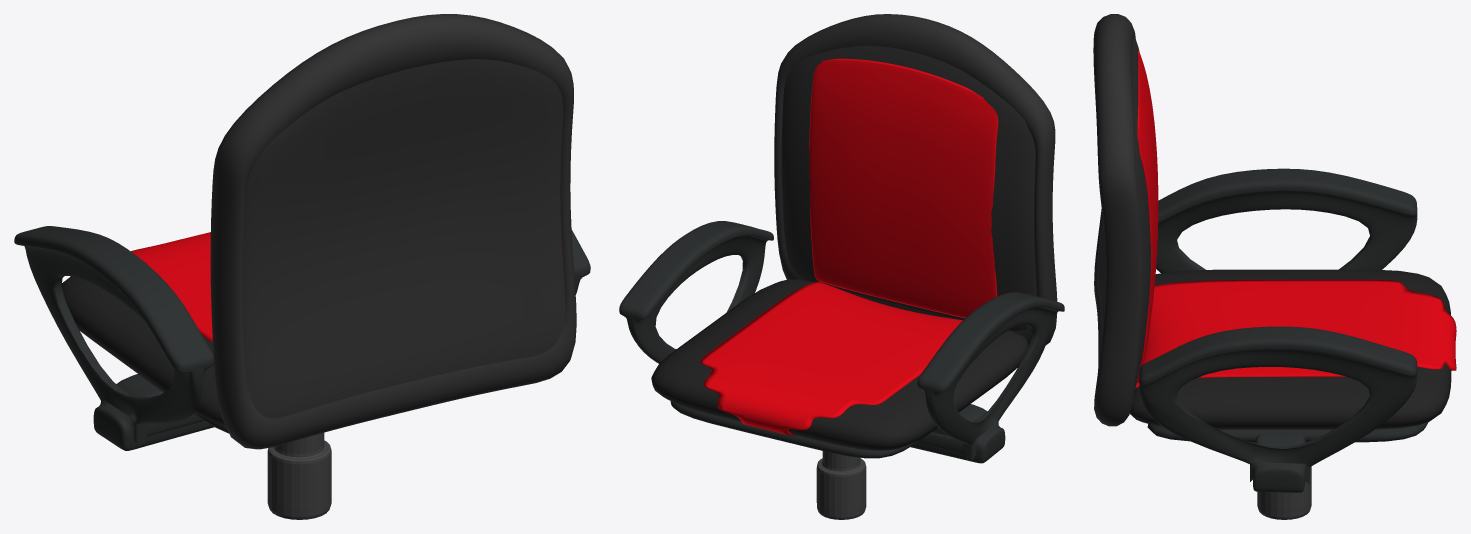
The model's file is seat1.fbx.
The picture shows the model from 3 angles, left to right: view 1: azimuth 30°, elevation 25°; view 2: azimuth 150°, elevation 25°; view 3: azimuth 270°, elevation 25°; orthographic projection. The views are drawn at different scales.
Parts seen in each view (by area): view 1: Cube.002; view 2: Cube.002; view 3: Cube.002.
Boxes of the visible parts, x1,y1,x2,y2 form: Cube.002: (14,14,590,519); Cube.002: (619,14,1064,519); Cube.002: (1093,14,1456,519).
Size of the model in its own units: 239 by 301 by 208.
